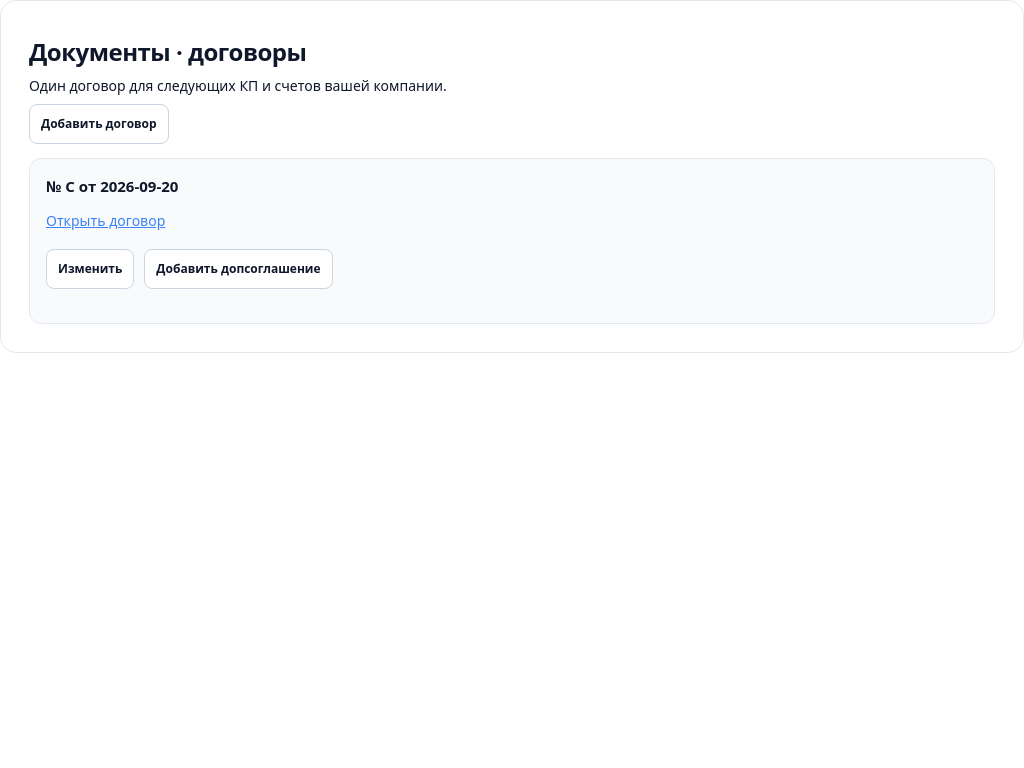
shows existing original and starts addendum without uploading original again
The image size is (1024, 768).
Click the button "Добавить допсоглашение". click: {"x": 238, "y": 268}
box: left=144, top=248, right=333, bottom=288
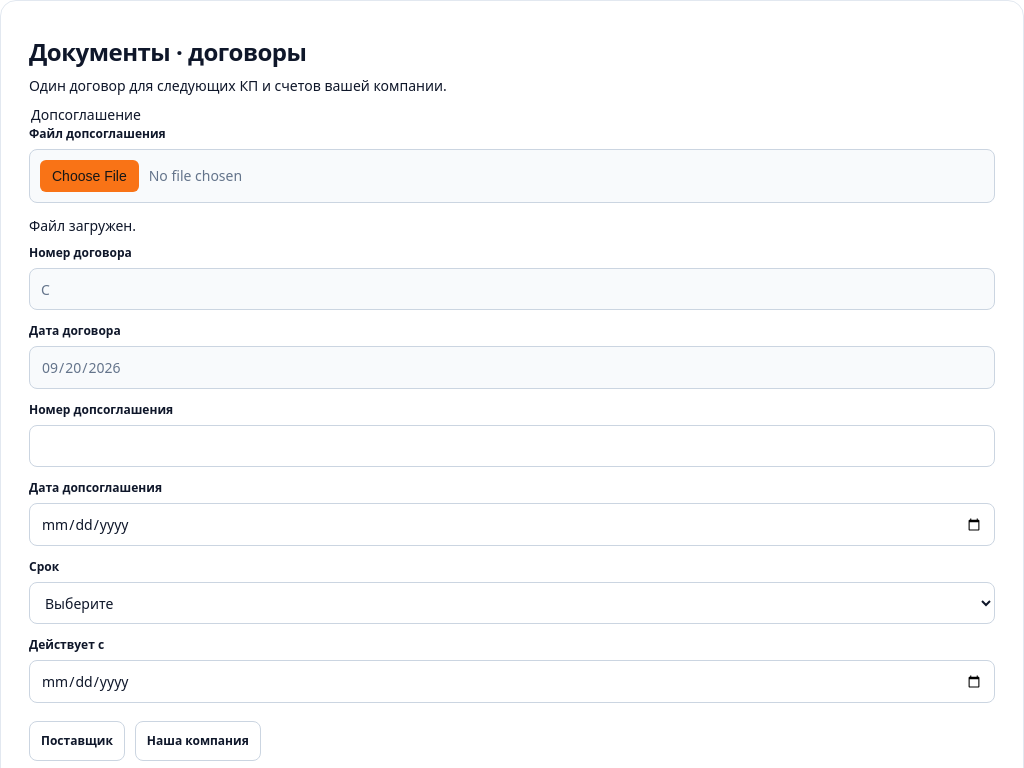
Expected: the file field labelled "Файл допсоглашения" is shown, left=29, top=149, right=995, bottom=203
